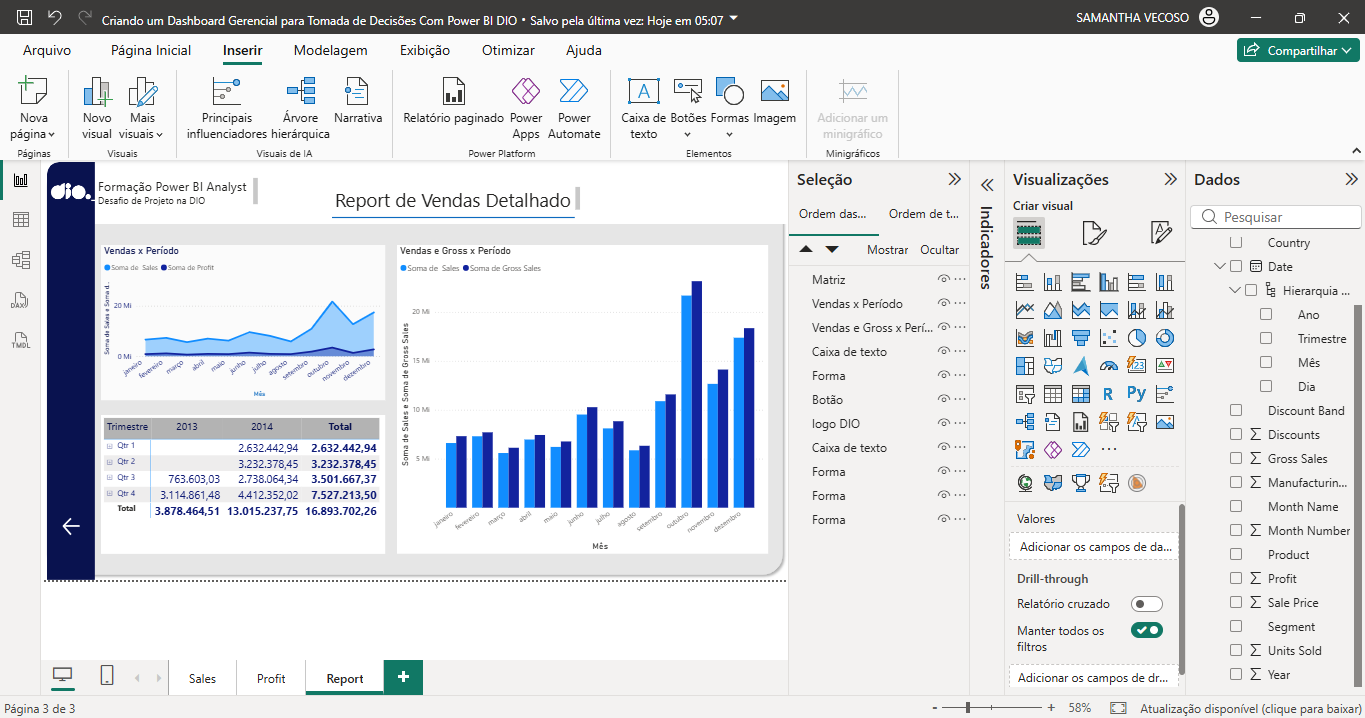

This screenshot's page, from the dashboard's own definition file:
{"tool":"powerbi","page":{"name":"Report","canvas":[1280,720],"ordinal":2},"visuals":[{"type":"shape","box":[0,0,1280,719.7],"z":0},{"type":"shape","box":[92.5,5.1,1187.5,104.5],"z":1000},{"type":"shape","box":[10.3,3.4,82.2,716.3],"z":2000},{"type":"textbox","box":[498.6,41.1,430.1,51.4],"z":3000},{"type":"image","title":"logo DIO","box":[10.2,16.1,92.2,77.6],"z":4000},{"type":"actionButton","box":[32.2,608.8,49.8,39.5],"z":5000},{"type":"shape","box":[498.6,15.4,416.4,166.2],"z":6000},{"type":"textbox","box":[92.2,26.3,283.9,57.1],"z":7000},{"type":"clusteredColumnChart","title":"Vendas e Gross x Período","fields":{"Category":["financials.Date.Variation.Hierarquia de datas.Mês"],"Y":["Sum(financials. Sales)","Sum(financials.Gross Sales)"]},"box":[610,145.6,635.7,529.5],"z":8000},{"type":"areaChart","title":"Vendas x Período","fields":{"Category":["financials.Date.Variation.Hierarquia de datas.Mês"],"Y":["Sum(financials. Sales)","Sum(financials.Profit)"]},"box":[102.8,145.6,486.6,265.6],"z":9000},{"type":"pivotTable","fields":{"Columns":["financials.Date.Variation.Hierarquia de datas.Ano"],"Rows":["financials.Date.Variation.Hierarquia de datas.Trimestre","financials.Date.Variation.Hierarquia de datas.Mês"],"Values":["Sum(financials.Profit)"]},"box":[102.8,436.9,486.6,238.2],"z":10000}]}

Visuals, with their boxes on the page's 1280x720 design canvas (x1, y1, x2, y2). These are canvas units, not pixel positions in the 1365x718 screenshot, which may show the page scaled, cropped or inside an application window:
shape: <region>0, 0, 1280, 720</region>
shape: <region>92, 5, 1280, 110</region>
shape: <region>10, 3, 92, 720</region>
textbox: <region>499, 41, 929, 92</region>
"logo DIO" image: <region>10, 16, 102, 94</region>
actionButton: <region>32, 609, 82, 648</region>
shape: <region>499, 15, 915, 182</region>
textbox: <region>92, 26, 376, 83</region>
"Vendas e Gross x Período" clusteredColumnChart: <region>610, 146, 1246, 675</region>
"Vendas x Período" areaChart: <region>103, 146, 589, 411</region>
pivotTable - financials.Date.Variation.Hierarquia de datas.Ano x financials.Date.Variation.Hierarquia de datas.Trimestre: <region>103, 437, 589, 675</region>
